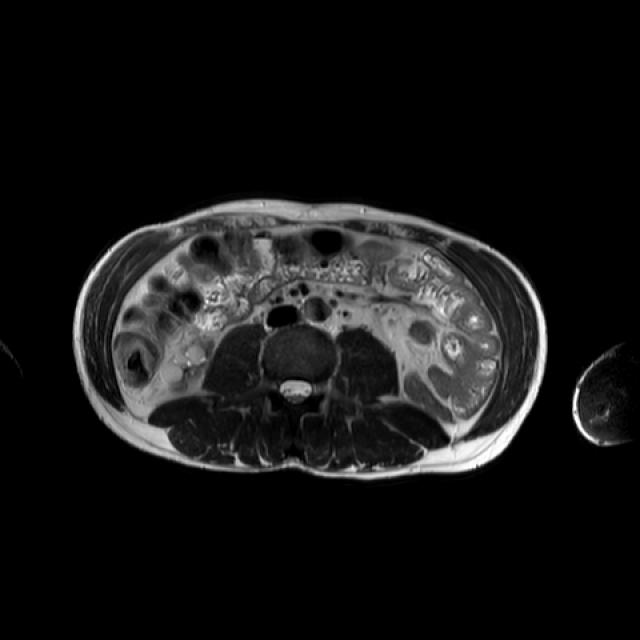sag: (161, 336, 213, 394)
